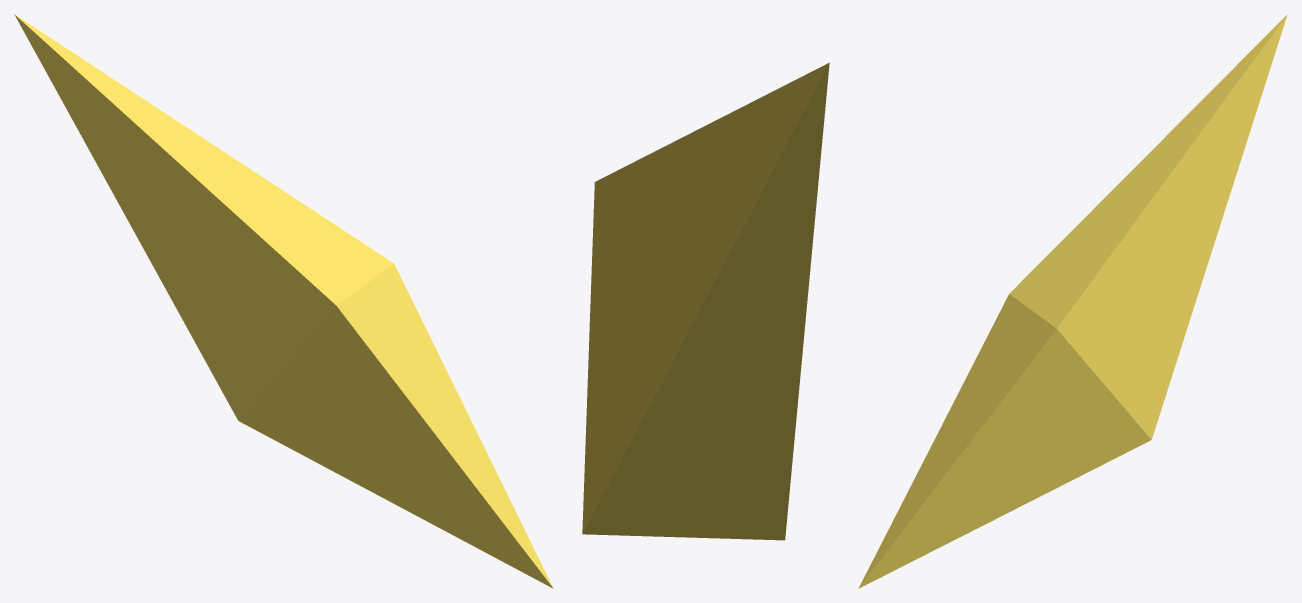
Rendered from world_1_fire_splinter_5.dae.
3 views of the same model, side by side, from view 1: azimuth 30°, elevation 25°; view 2: azimuth 150°, elevation 25°; view 3: azimuth 270°, elevation 25° (orthographic). The views are drawn at different scales.
Parts seen in each view (by area): view 1: fire_small_004; view 2: fire_small_004; view 3: fire_small_004.
Boxes of the visible parts, box(x1,y1,x2,y2) form: fire_small_004: box(14, 14, 553, 588); fire_small_004: box(582, 62, 829, 540); fire_small_004: box(858, 14, 1287, 588).
Size of the model in its own units: 0.2368 by 0.3146 by 0.3542.
